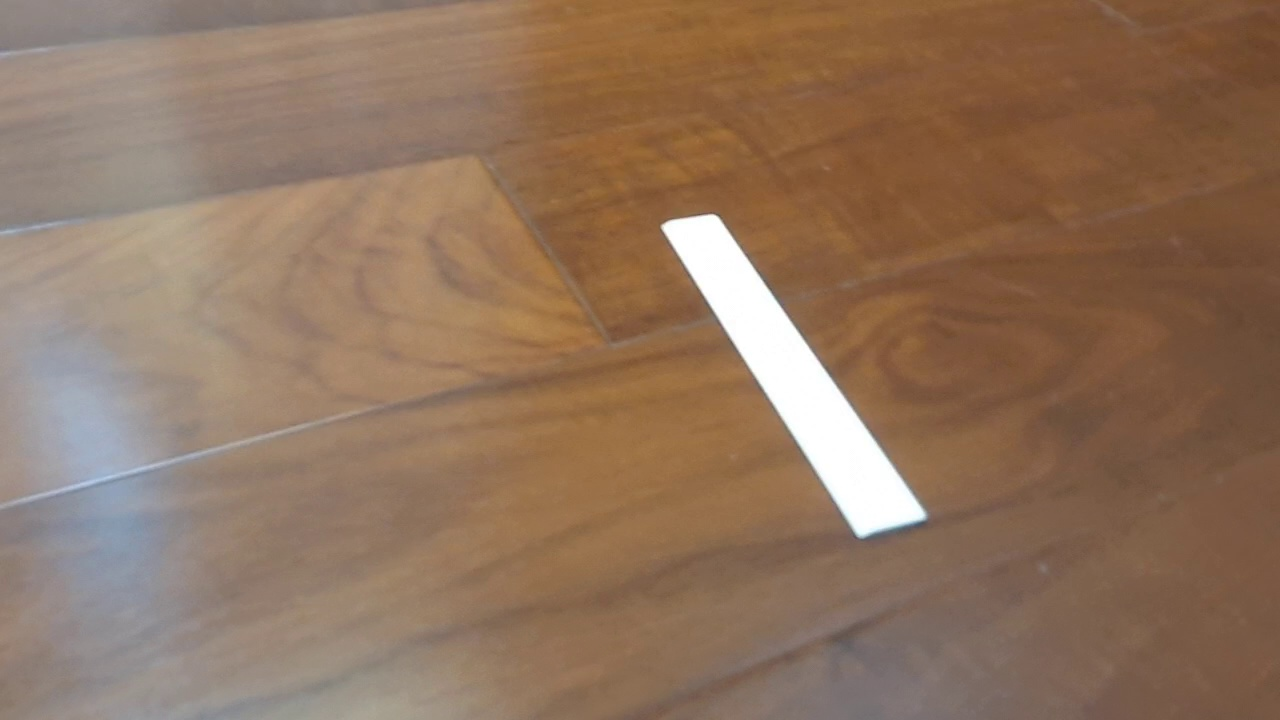ruler: (659, 212, 930, 542)
